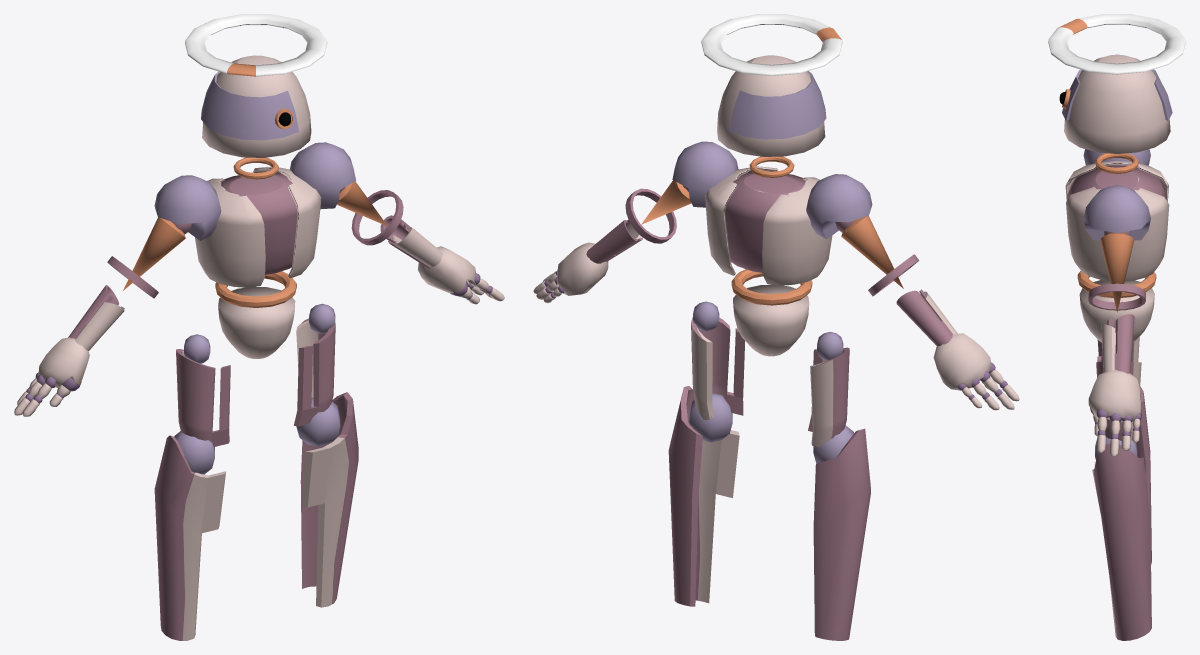
The model's file is mate.fbx.
The picture shows the model from 3 angles, left to right: view 1: azimuth 30°, elevation 25°; view 2: azimuth 150°, elevation 25°; view 3: azimuth 270°, elevation 25°; orthographic projection. The views are drawn at different scales.
Visible parts, largest first — view 1: polySurface19, polySurface22, chestout, pSphere2 (×2), head, light, mask, polySurface18, chest, butt, polySurface23, pSphere25 (×2) (+6 smaller); view 2: polySurface19, polySurface22, chestout, pSphere2 (×2), head, chest, mask, pSphere25 (×2), polySurface23, light, butt, polySurface18 (+7 smaller); view 3: polySurface22, head, chestout, light, pSphere2 (×2), pSphere25, butt, chest, pCone1, polySurface24, pCylinder2, polySurface19 (+6 smaller).
Part boxes in pixels (x1,y1,x2,y2): polySurface19: (154, 435, 225, 640); polySurface22: (300, 392, 358, 607); chestout: (195, 166, 321, 287); pSphere2 (×2): (154, 142, 356, 240); head: (202, 55, 311, 157); light: (185, 14, 327, 76); mask: (201, 71, 298, 140); polySurface18: (176, 349, 230, 446); chest: (221, 172, 297, 274); butt: (218, 286, 295, 358); polySurface23: (294, 318, 335, 426); pSphere25 (×2): (38, 246, 475, 387); polySurface19: (813, 428, 870, 640); polySurface22: (668, 386, 739, 606); chestout: (705, 166, 832, 285); pSphere2 (×2): (672, 141, 872, 239); head: (717, 55, 825, 156); chest: (725, 171, 805, 272); mask: (729, 71, 826, 139); pSphere25 (×2): (557, 242, 991, 390); polySurface23: (691, 317, 745, 420); light: (701, 14, 842, 75); butt: (733, 284, 809, 356); polySurface18: (808, 347, 849, 447); polySurface22: (1092, 443, 1151, 640); head: (1064, 54, 1170, 153); chestout: (1065, 161, 1169, 281); light: (1048, 14, 1185, 74); pSphere2 (×2): (1083, 149, 1150, 240); pSphere25: (1088, 369, 1141, 421); butt: (1079, 280, 1154, 342); chest: (1067, 165, 1166, 199); pCone1: (1100, 233, 1133, 312); polySurface24: (1107, 314, 1134, 373); pCylinder2: (1088, 283, 1145, 310); polySurface19: (1136, 386, 1151, 564).
Bounding box in the file's own units: 188 × 216 × 47.75.
Materials: 1 (1 with a texture image).
